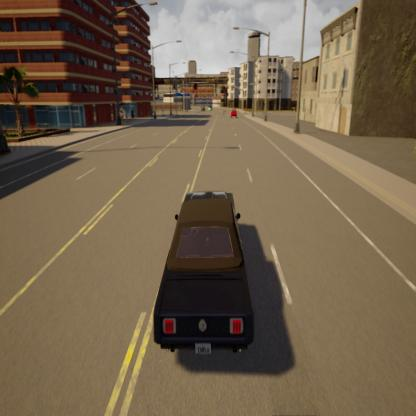Cars: (141, 175, 264, 368), (230, 105, 240, 126), (199, 104, 206, 116), (207, 105, 213, 119)
